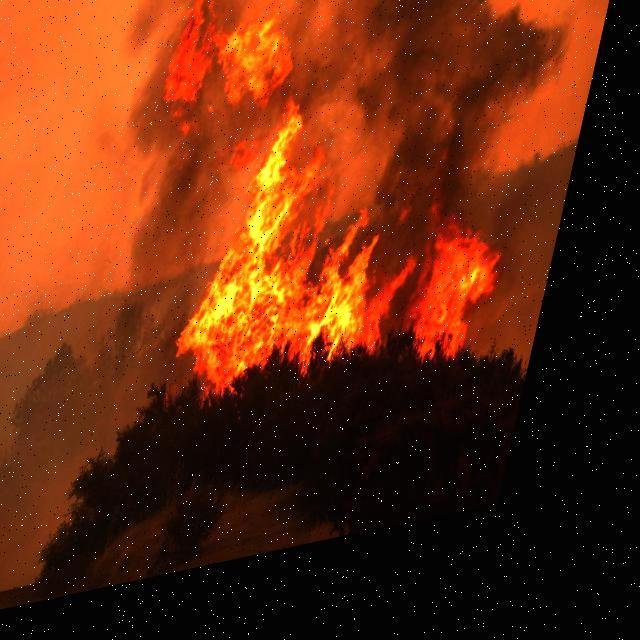Fire: (111, 0, 485, 423), (414, 236, 524, 388)
